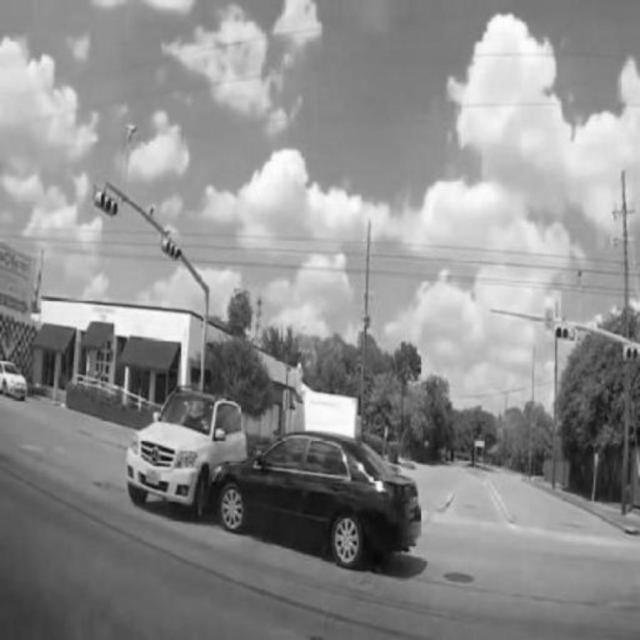accident: (130, 385, 420, 562)
